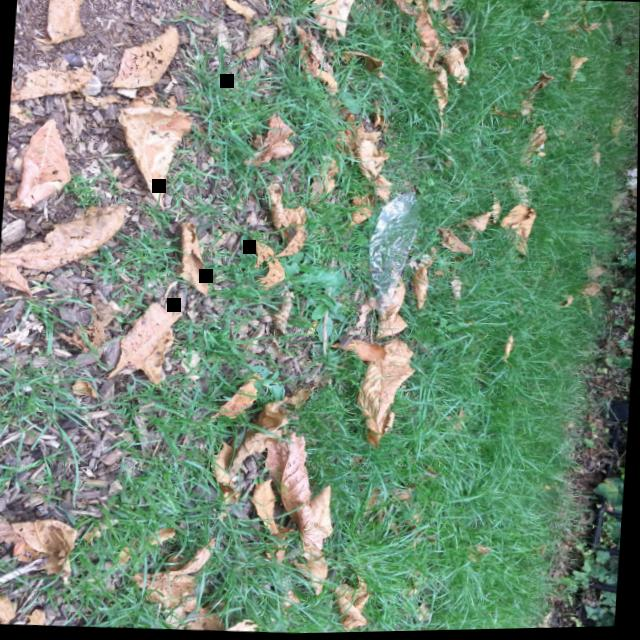Plastic film: (370, 195, 419, 314)
